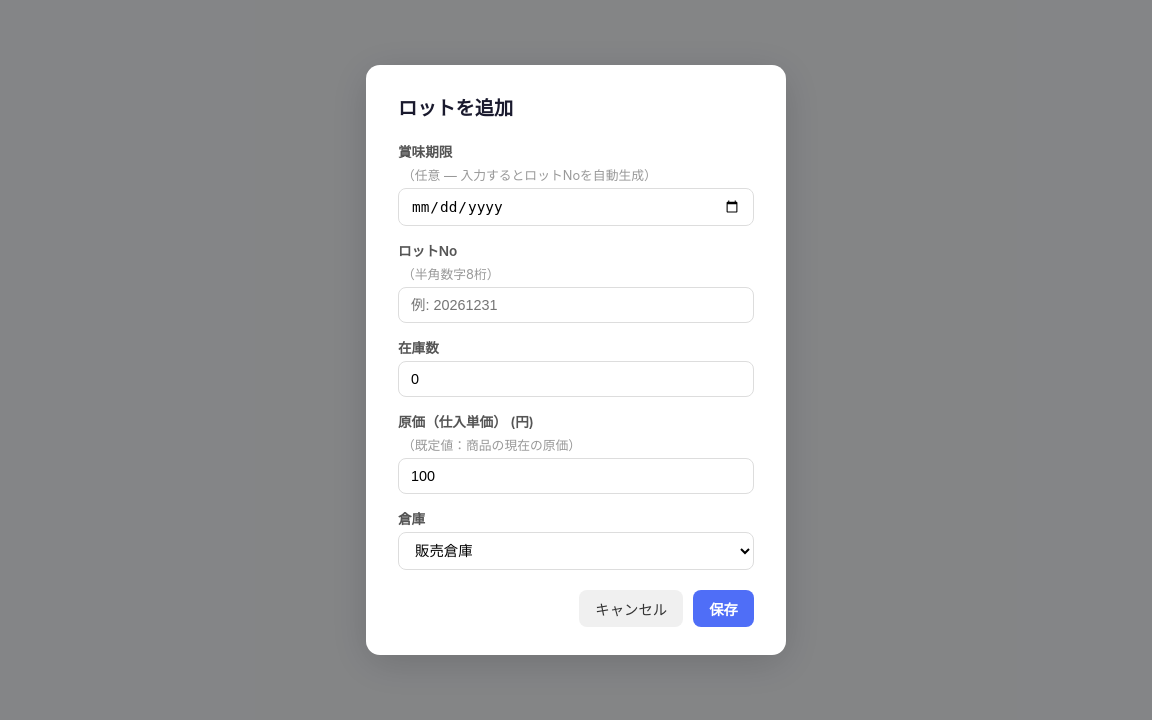
Test: LotModal — ロットNo バリデーション › 数字以外の文字は入力できない
Step 1. Type "ABC-2026" into the field with placeholder "例: 20261231" → (576, 305), box [398,287,754,323]
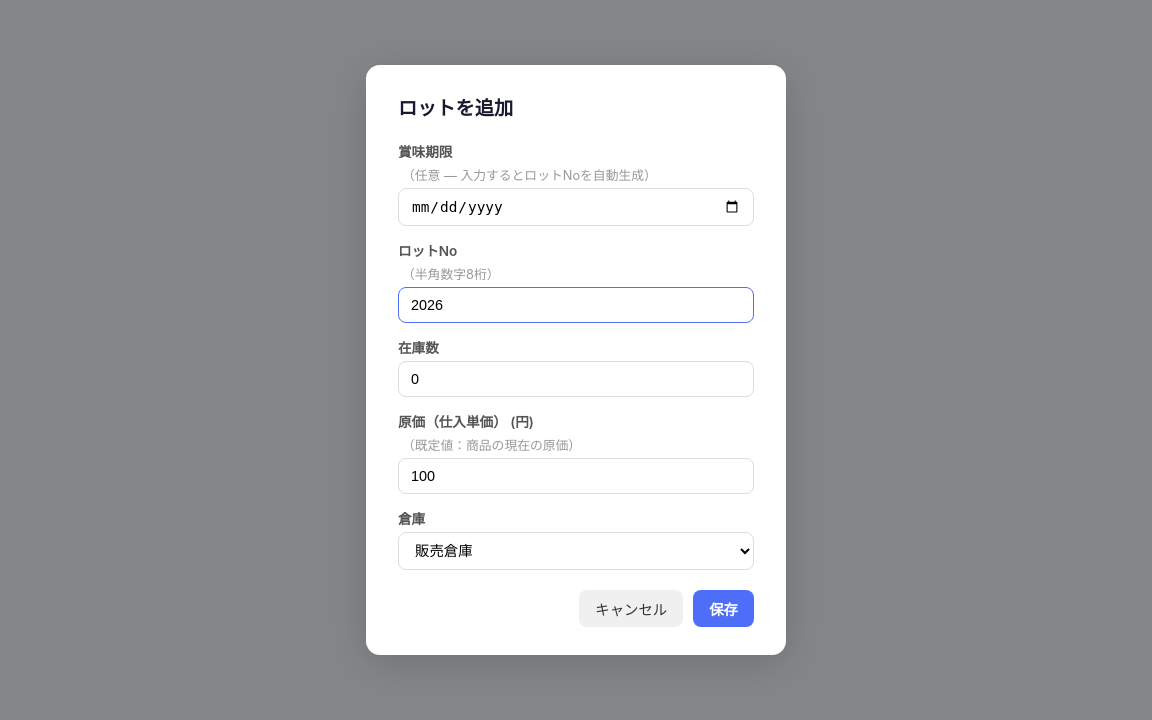
Expected: the field with placeholder "例: 20261231" holds "2026", [398,287,754,323]
